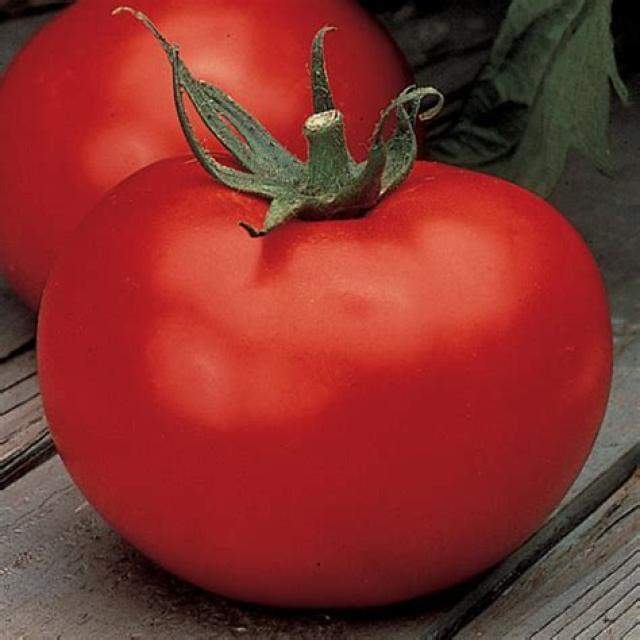Tomato: (36, 156, 614, 611)
